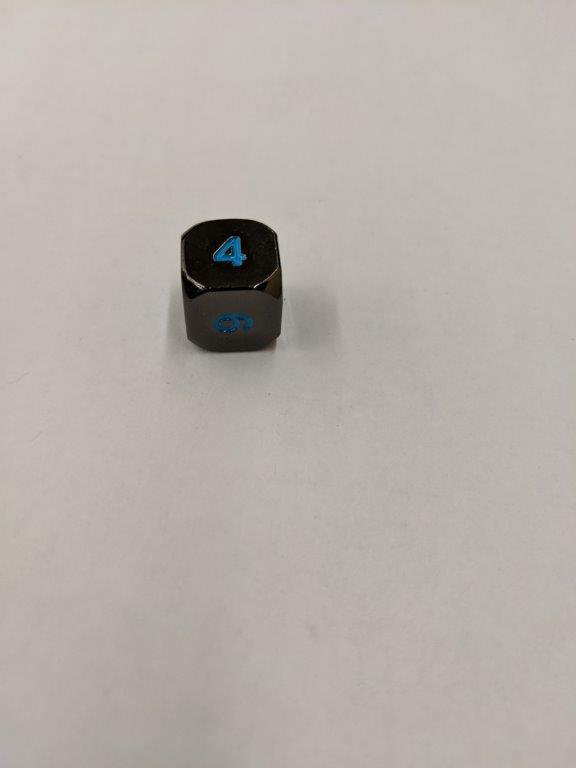d6-4: (179, 218, 285, 354)
